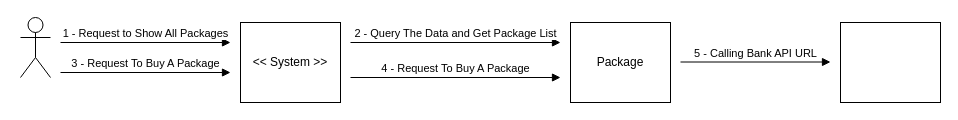
Some shapes in this 958 by 120 pixel diagram are drawn without their labels. Each missing label, with the centre of its shape:
"Athlete" belongs at (x=35, y=47).
"Bank API System" belongs at (x=890, y=62).
